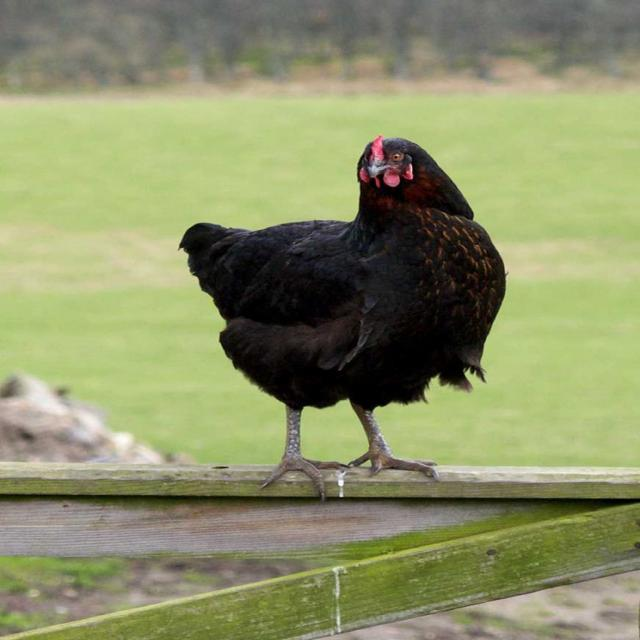Chicken: (186, 137, 509, 502)
